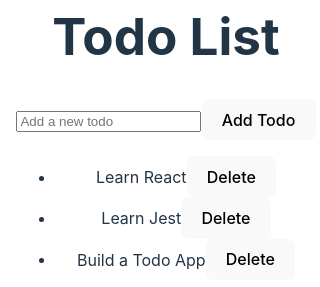
Test: TodoList Component › deletes a todo
This screenshot has width=320, height=287.
Click the button "Delete" next to "Learn React" at (231,177), box [187,156,276,198]
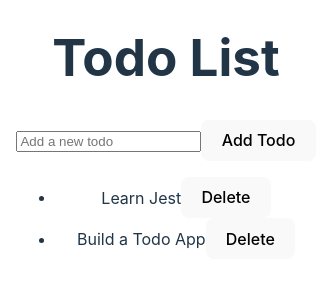
Expected: the number of list items is 2, [101,177,271,218]; [77,218,295,259]
